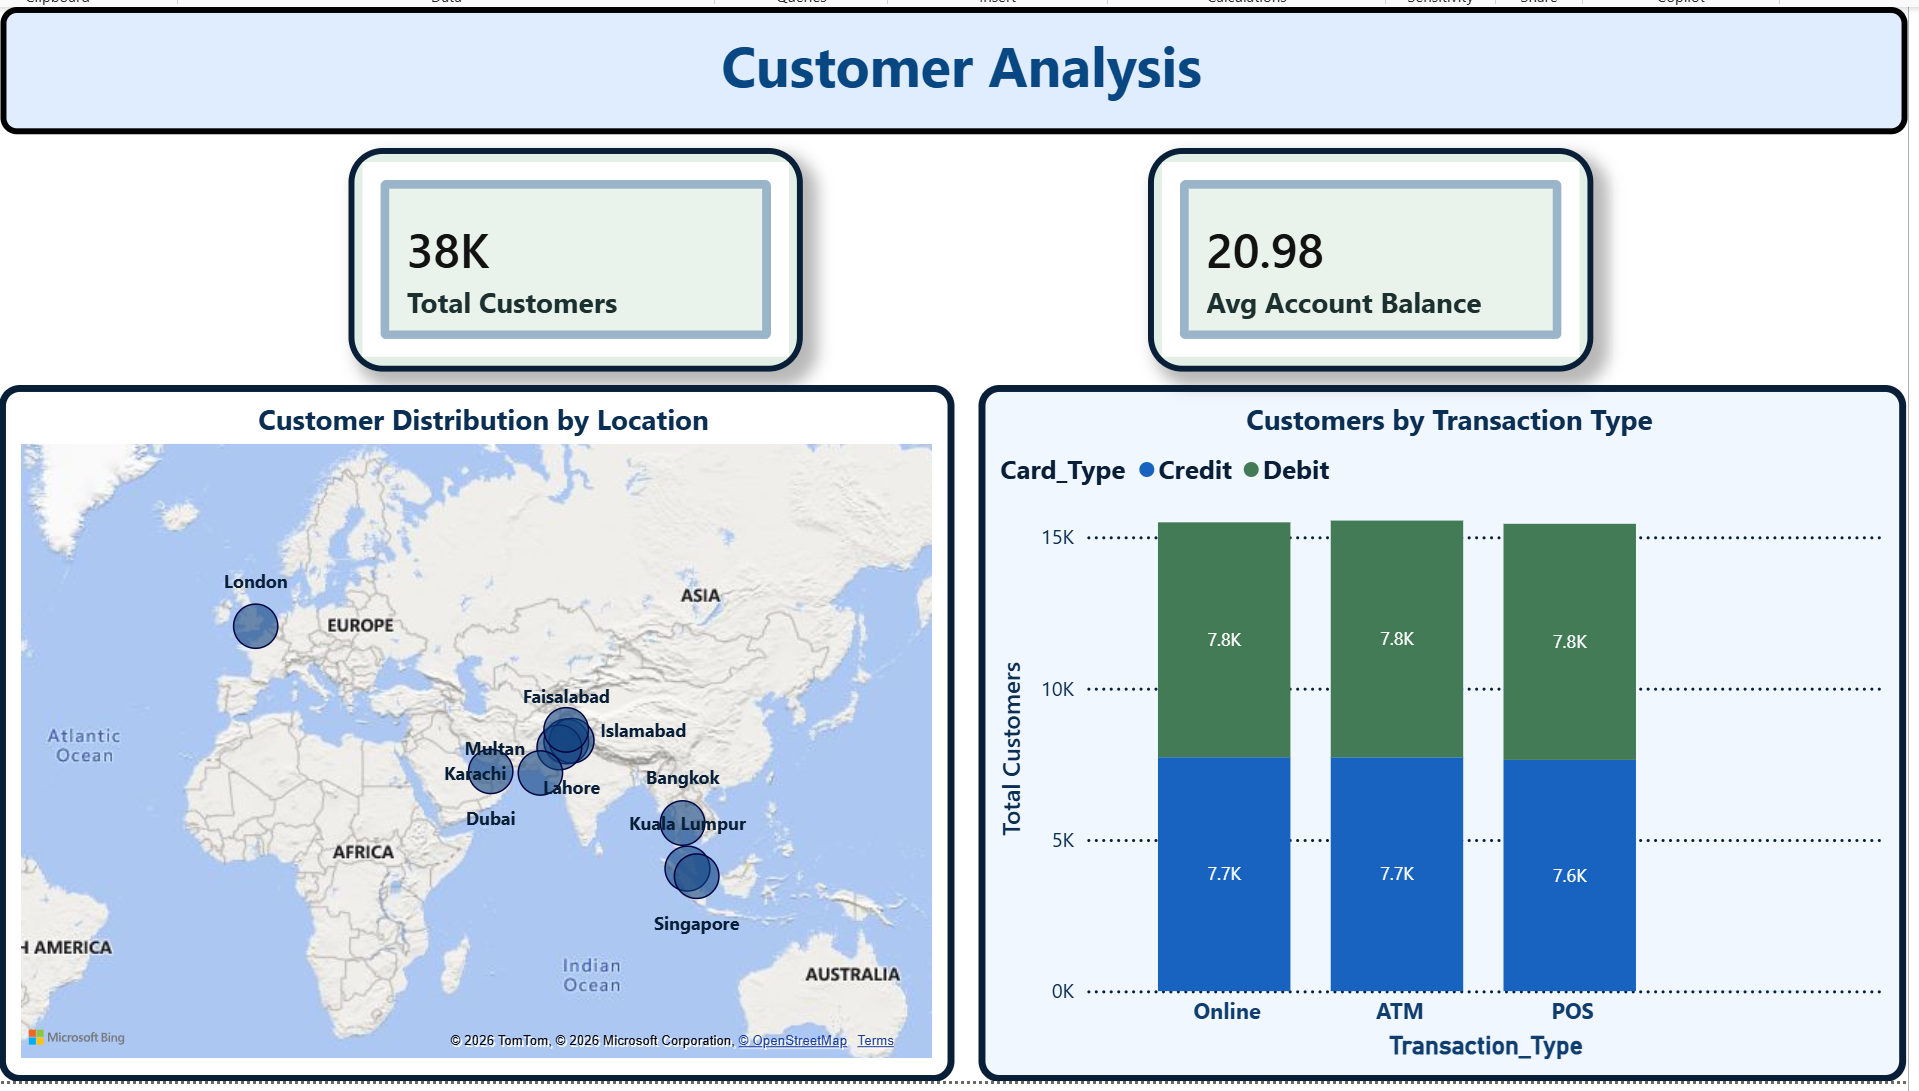

This screenshot's page, from the dashboard's own definition file:
{"tool":"powerbi","page":{"name":" Customer Analysis","canvas":[1280,720],"ordinal":5},"visuals":[{"type":"textbox","box":[1,0,1278.3,85.5],"z":0},{"type":"cardVisual","fields":{"Data":["FactTransactions.Total Customers"]},"box":[234.3,94.5,304.7,149.9],"z":1000},{"type":"cardVisual","fields":{"Data":["FactTransactions.Avg Account Balance"]},"box":[770.4,94.5,298.7,149.9],"z":2000},{"type":"map","title":"Customer Distribution by Location","fields":{"Size":["FactTransactions.Total Customers"],"Category":["FactTransactions.Transaction_Location"]},"box":[0,253.6,640.6,467.1],"z":3000},{"type":"columnChart","title":"Customers by Transaction Type","fields":{"Category":["FactTransactions.Transaction_Type"],"Y":["FactTransactions.Total Customers"],"Series":["FactTransactions.Card_Type"]},"box":[657.2,253.6,622.2,467.1],"z":4000}]}

Visuals, with their boxes in screenshot pixels (x1, y1, x2, y2), scaled from the page's 1280x720 canvas onto the 1919x1091 screenshot:
textbox: 1, 0, 1918, 130
cardVisual - FactTransactions.Total Customers: 351, 143, 808, 370
cardVisual - FactTransactions.Avg Account Balance: 1155, 143, 1603, 370
"Customer Distribution by Location" map: 0, 384, 960, 1090
"Customers by Transaction Type" columnChart: 985, 384, 1918, 1090
